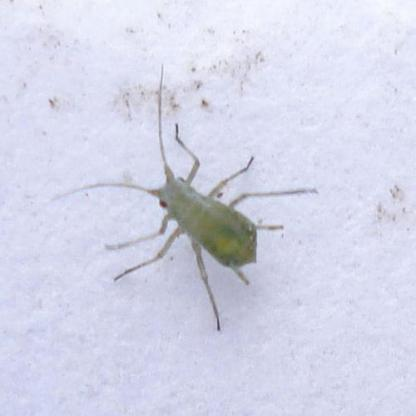aphid: (55, 90, 300, 307)
